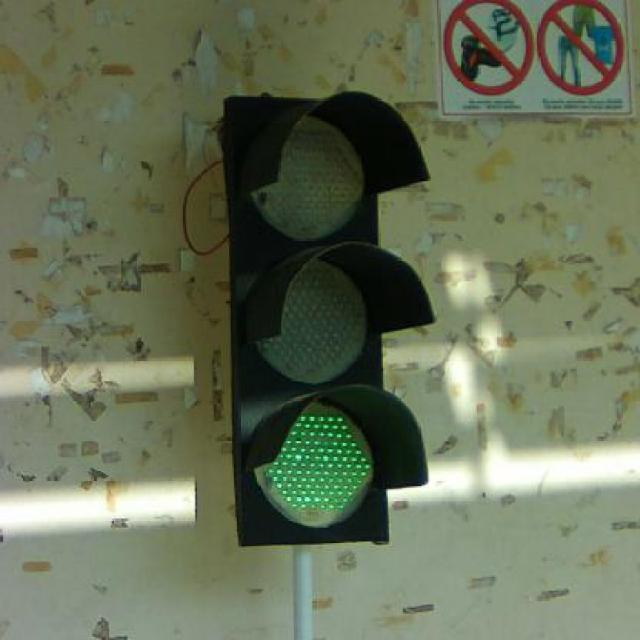green: (215, 85, 426, 561)
